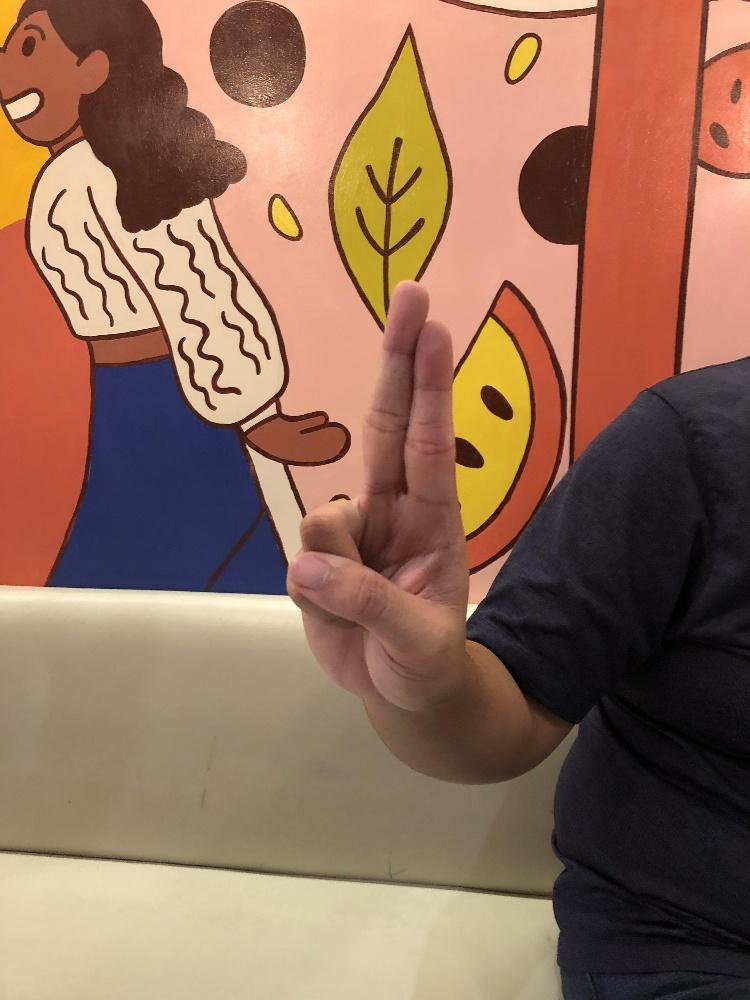u: (284, 278, 471, 712)
